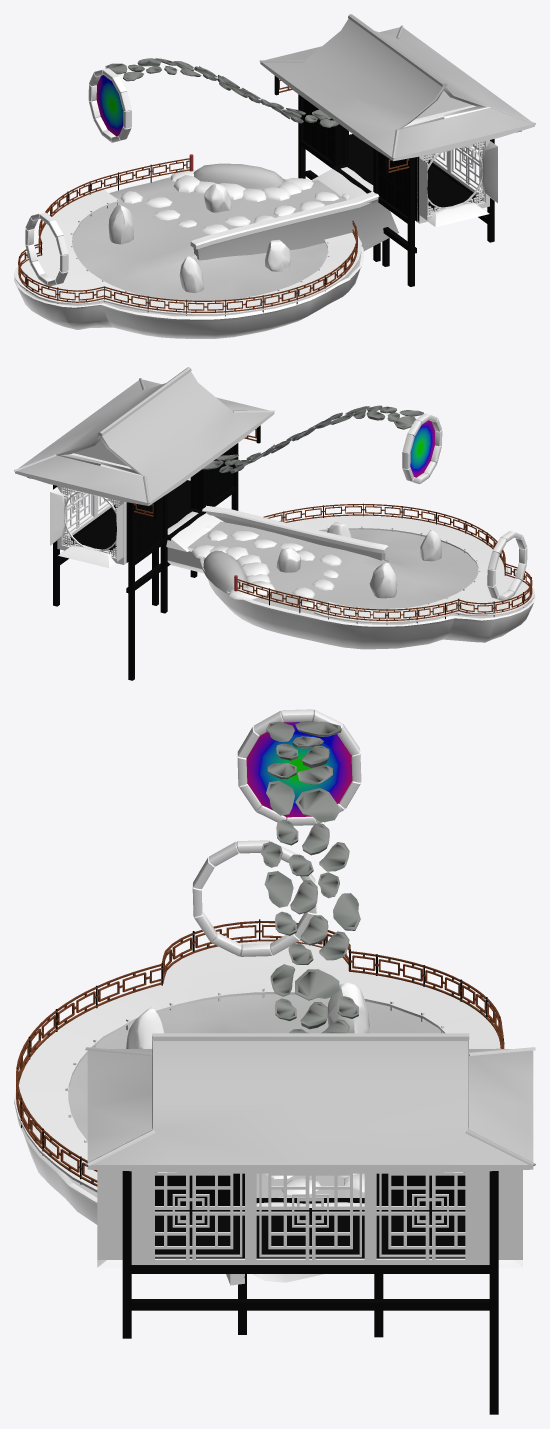
File: Level_1.2.fbx
3 views of the same model, one above another, from view 1: azimuth 30°, elevation 25°; view 2: azimuth 150°, elevation 25°; view 3: azimuth 270°, elevation 25° (orthographic). The views are drawn at different scales.
Visible parts, largest first — view 1: Base, Mesh (5), Level_1, Flonder, Wall, Hek, Ramp, Gras, Start, End, Wall (2), Mesh (+6 smaller); view 2: Base, Mesh (5), Level_1, Flonder, Hek, Wall, Ramp (2), Start, Gras, End, Ramp (3), Wall (2) (+6 smaller); view 3: Mesh (5), Level_1, Flonder, Wall (2), Base, Hek, Ramp, Ramp (2), Mesh, Start, End, Big_Rock (+4 smaller).
Part boxes in pixels (bbox=[...]): Base: bbox=[14, 177, 363, 338]; Mesh (5): bbox=[259, 14, 535, 161]; Level_1: bbox=[274, 76, 521, 286]; Flonder: bbox=[14, 189, 361, 315]; Wall: bbox=[190, 191, 398, 260]; Hek: bbox=[18, 154, 357, 316]; Ramp: bbox=[419, 141, 497, 227]; Gras: bbox=[193, 163, 283, 188]; Start: bbox=[25, 212, 68, 286]; End: bbox=[88, 68, 131, 142]; Wall (2): bbox=[424, 142, 482, 198]; Mesh: bbox=[96, 75, 123, 136]; Base: bbox=[167, 521, 535, 649]; Mesh (5): bbox=[14, 367, 274, 505]; Level_1: bbox=[27, 425, 260, 680]; Flonder: bbox=[287, 515, 534, 623]; Hek: bbox=[234, 503, 532, 624]; Wall: bbox=[202, 505, 388, 560]; Ramp (2): bbox=[50, 487, 123, 567]; Start: bbox=[487, 531, 527, 601]; Gras: bbox=[202, 550, 247, 593]; End: bbox=[402, 413, 442, 484]; Ramp (3): bbox=[166, 511, 223, 551]; Wall (2): bbox=[64, 488, 119, 541]; Mesh (5): bbox=[85, 1033, 535, 1173]; Level_1: bbox=[122, 1171, 498, 1414]; Flonder: bbox=[14, 938, 504, 1192]; Wall (2): bbox=[131, 1172, 489, 1264]; Base: bbox=[15, 981, 441, 1282]; Hek: bbox=[16, 919, 504, 1186]; Ramp: bbox=[97, 1170, 154, 1267]; Ramp (2): bbox=[465, 1170, 522, 1267]; Mesh: bbox=[246, 721, 352, 817]; Start: bbox=[192, 840, 316, 956]; End: bbox=[237, 709, 361, 825]; Big_Rock: bbox=[327, 982, 369, 1033].
Size of what is drawn, in the model's own units: 702 by 430 by 410.
